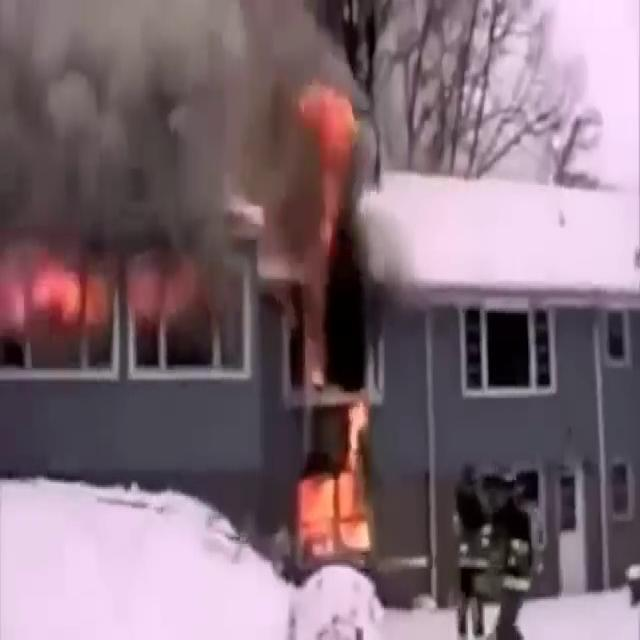Fire: (292, 392, 384, 572)
Smoke: (0, 0, 424, 353)
